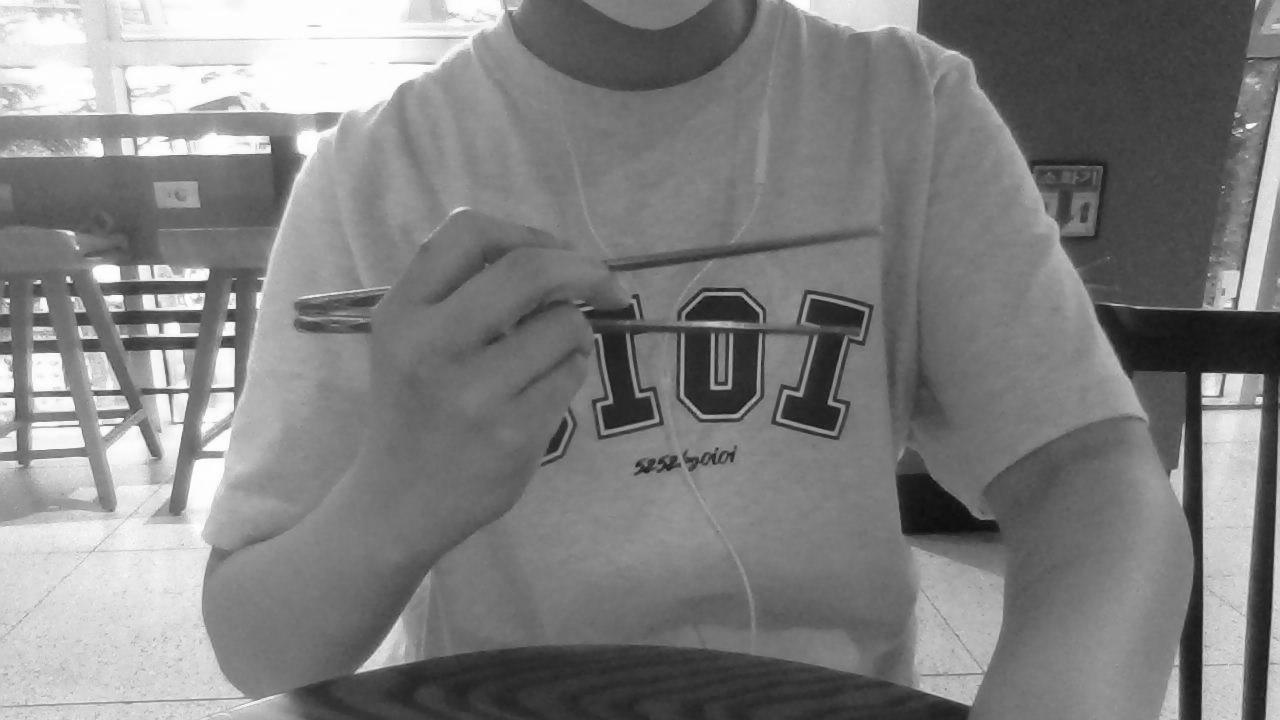chopstick: (294, 228, 890, 315), (294, 317, 863, 339)
hand: (364, 208, 635, 533)
